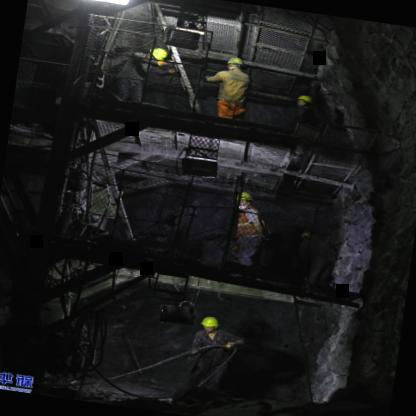helmet: (138, 43, 171, 67), (228, 186, 257, 212), (194, 312, 224, 336), (221, 54, 248, 74), (292, 90, 316, 109)
